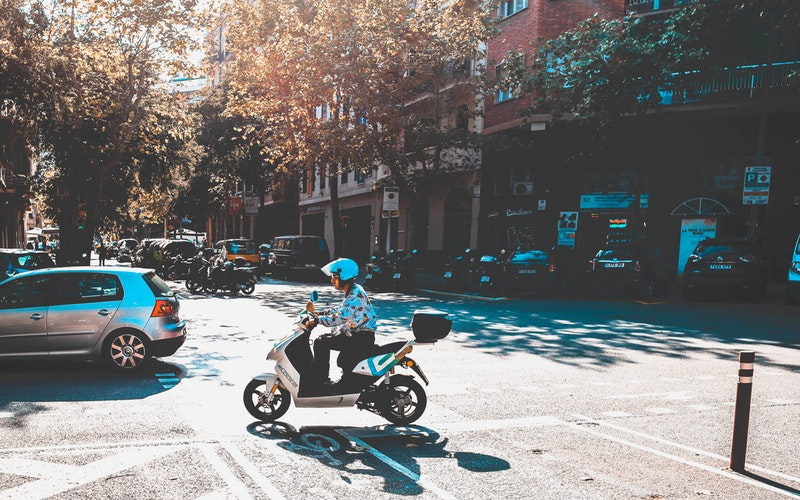helmet: (323, 251, 362, 282)
